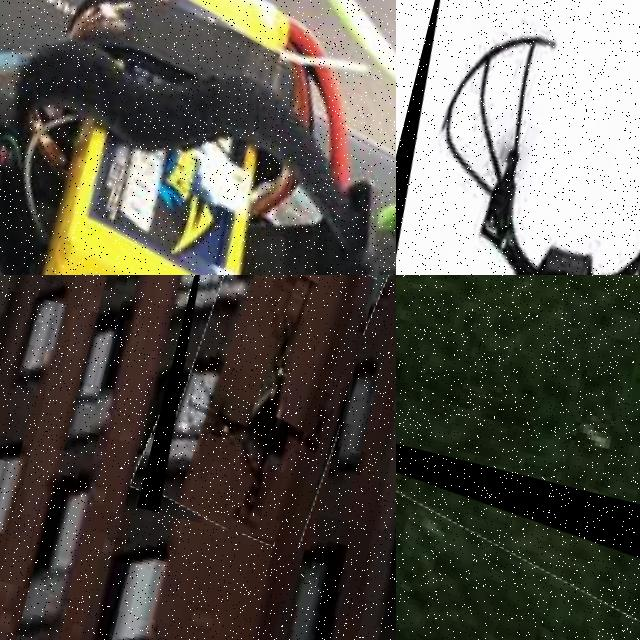0: (136, 275, 384, 550), (396, 0, 640, 275)
drone: (0, 0, 396, 275), (396, 375, 640, 640)
